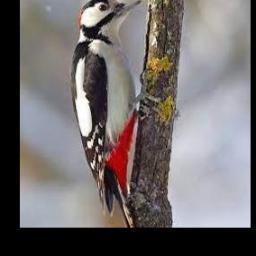Woodpecker: (70, 0, 155, 228)
